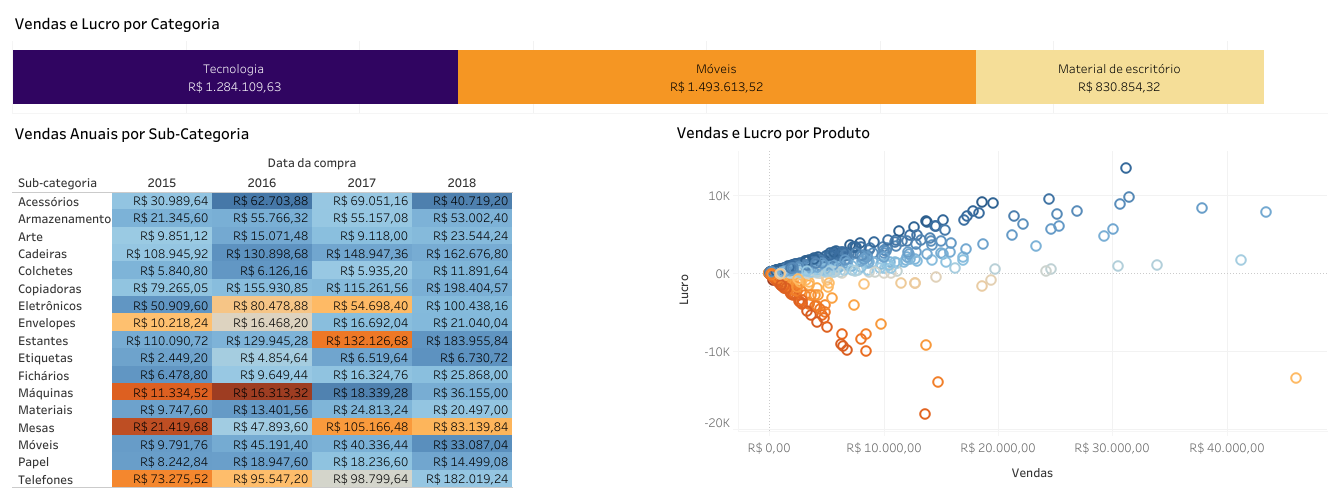

The dashboard page shown, as its layout file describes it:
{"tool":"tableau","page":{"name":"Vendas Categoria, Sub-Categoria e Produto","canvas":[1000,1000],"units":"permille","ordinal":0},"visuals":[{"type":"text","box":[6.9,14.7,986.1,58.8]},{"type":"worksheet","title":"Vendas Categoria","mark":"Automatic","cols":["Vendas"],"box":[6.9,73.5,986.1,158.8]},{"type":"text","box":[6.9,232.3,493.1,62.1]},{"type":"text","box":[500,232.3,493.1,61.7]},{"type":"worksheet","title":"Vendas Produtos","mark":"Automatic","rows":["Lucro"],"cols":["Vendas"],"box":[500,294,493.1,691.2]},{"type":"worksheet","title":"Vendas Subcategoria","mark":"Square","rows":["Sub-categoria"],"cols":["Data da compra"],"box":[6.9,294.5,493.1,690.8]}]}

Visuals, with their boxes on the dashboard's canvas, which has no fixed pixel size, in thousandths of its width and height (x1, y1, x2, y2). These are canvas units, not pixel positions in the 1338x499 screenshot, which may show the page scaled, cropped or inside an application window:
text: {"left": 7, "top": 15, "right": 993, "bottom": 74}
"Vendas Categoria" worksheet: {"left": 7, "top": 74, "right": 993, "bottom": 232}
text: {"left": 7, "top": 232, "right": 500, "bottom": 294}
text: {"left": 500, "top": 232, "right": 993, "bottom": 294}
"Vendas Produtos" worksheet: {"left": 500, "top": 294, "right": 993, "bottom": 985}
"Vendas Subcategoria" worksheet (Square marks): {"left": 7, "top": 294, "right": 500, "bottom": 985}
